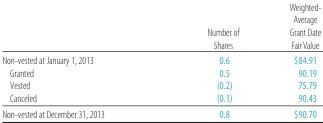table: (1, 0, 320, 119)
table column: (1, 0, 155, 119), (155, 0, 263, 119), (263, 0, 320, 119)
table column header: (1, 0, 320, 51)
table row: (1, 0, 320, 51), (1, 51, 320, 65), (1, 91, 320, 105), (1, 105, 320, 119), (1, 65, 320, 78), (1, 78, 320, 91)
